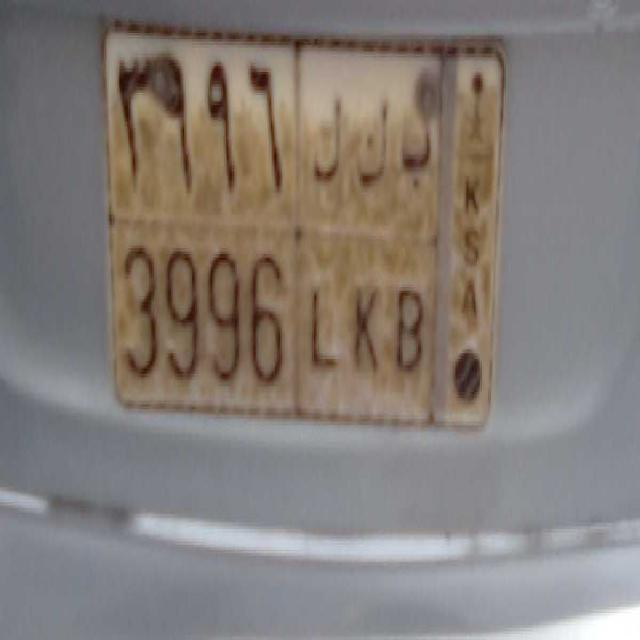license_plate: (108, 212, 430, 421)
